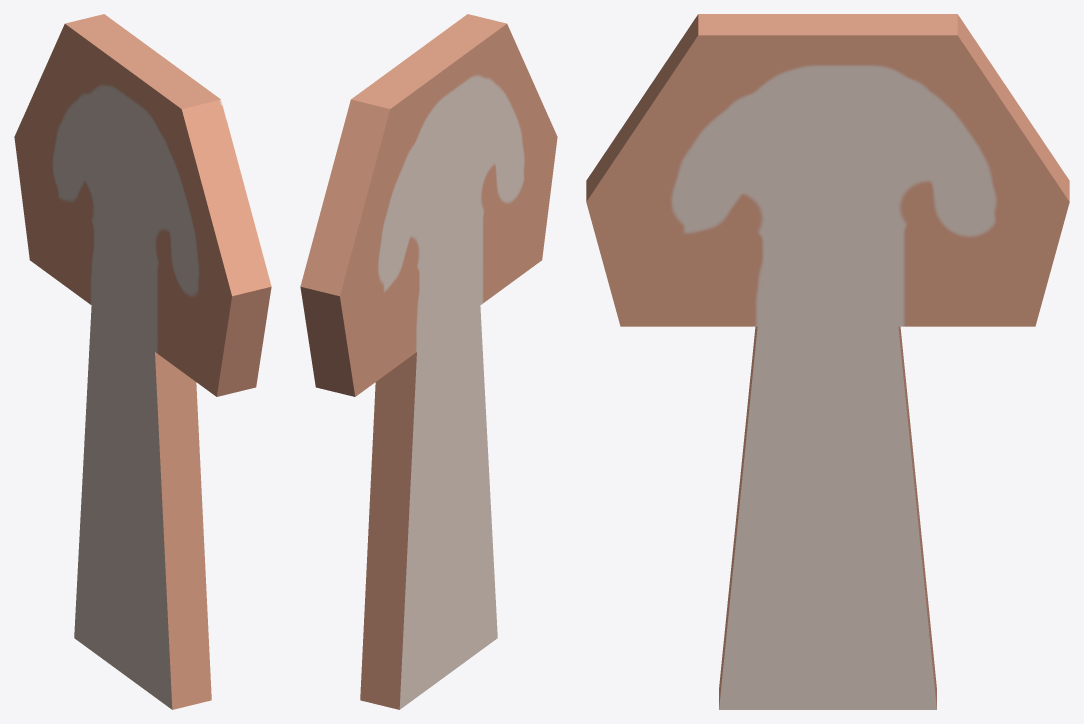
Rendered from MushroomChopped.fbx.
3 views of the same model, side by side, from view 1: azimuth 30°, elevation 25°; view 2: azimuth 150°, elevation 25°; view 3: azimuth 270°, elevation 25° (orthographic). The views are drawn at different scales.
Parts seen in each view (by area): view 1: ChoppedMushroom; view 2: ChoppedMushroom; view 3: ChoppedMushroom.
Part boxes in pixels (x1,y1,x2,y2): ChoppedMushroom: (14,14,271,709); ChoppedMushroom: (300,14,557,709); ChoppedMushroom: (586,14,1069,709).
Bounding box in the file's own units: 0.5777 × 5.52 × 8.5.
1 material, 1 textured.
